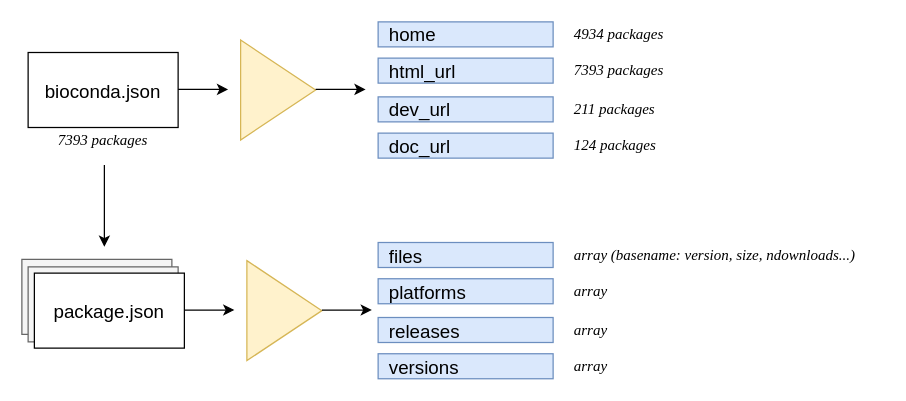
This 906x401 diagram has some shape labels left out. The centre of each missing label's shape, as x and y in pixels:
"fetch" goes at point 277,89.
"store" goes at point 284,310.
